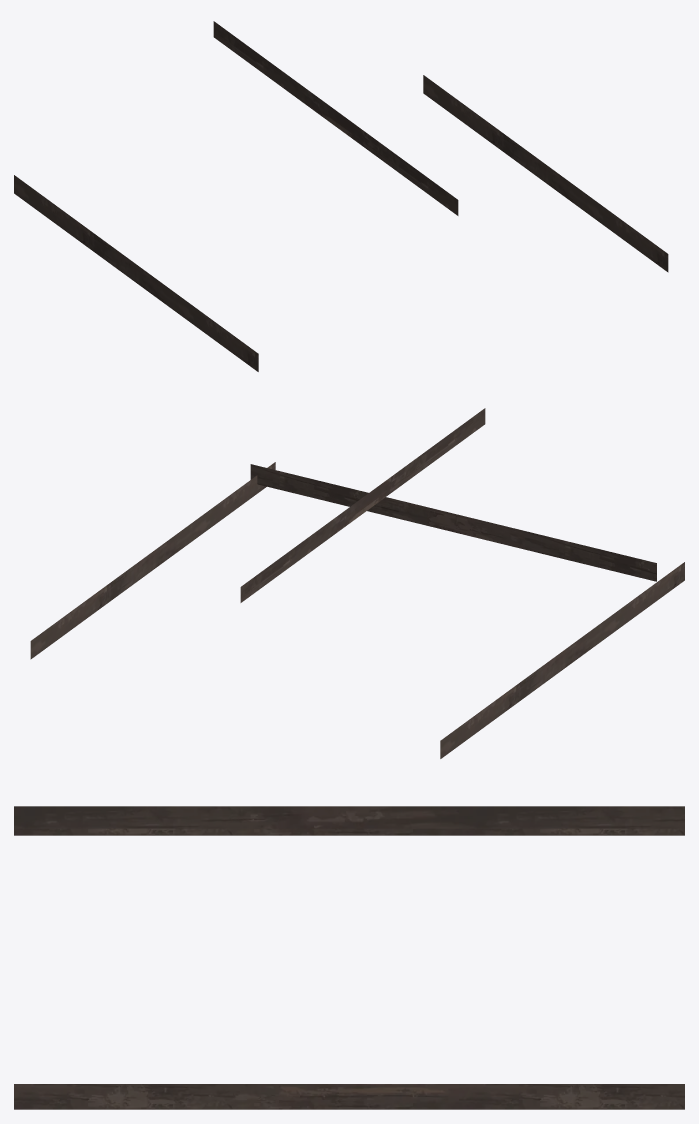
3 views of the same model, one above another, from view 1: azimuth 30°, elevation 25°; view 2: azimuth 150°, elevation 25°; view 3: azimuth 270°, elevation 25° (orthographic). The views are drawn at different scales.
Parts seen in each view (by area): view 1: body0_model0_lod0_mesh0; view 2: body0_model0_lod0_mesh0; view 3: body0_model0_lod0_mesh0.
Boxes of the visible parts, x1=… form: body0_model0_lod0_mesh0: x1=14, y1=21, x2=668, y2=371; body0_model0_lod0_mesh0: x1=30, y1=408, x2=684, y2=758; body0_model0_lod0_mesh0: x1=14, y1=806, x2=684, y2=1109.
Bounding box in the file's own units: 382 × 106 × 380.
Materials: 1 (1 with a texture image).
